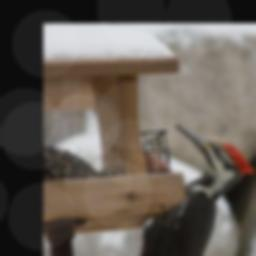Woodpecker: (66, 124, 256, 256)
